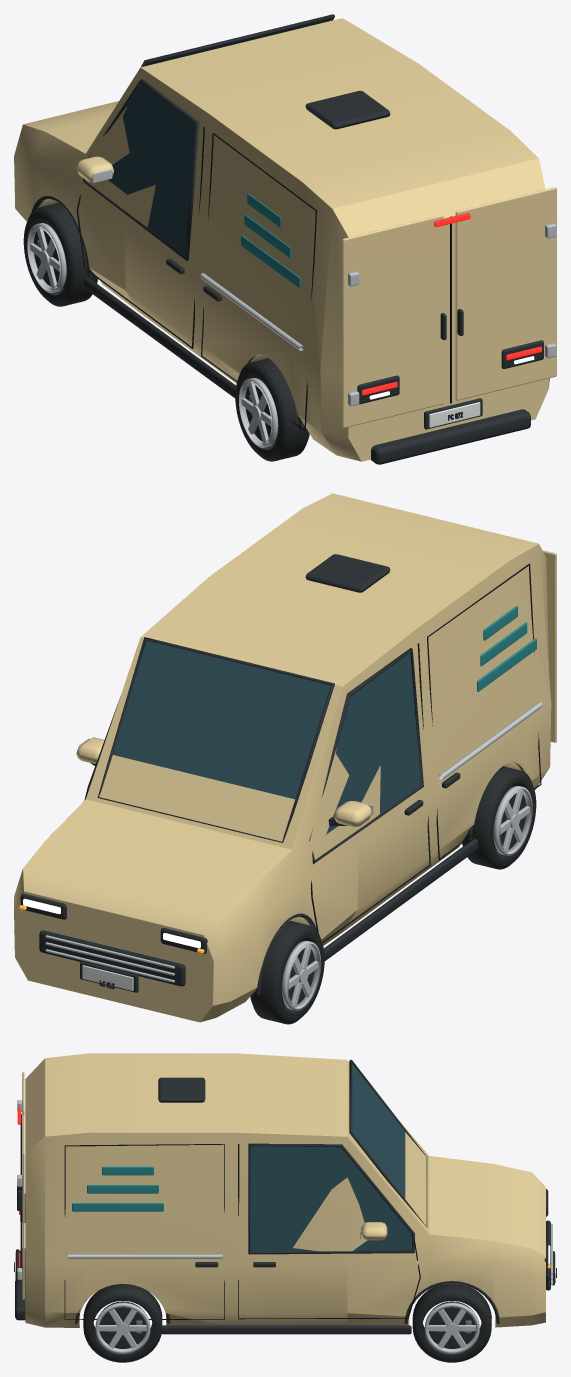
Rendered from vehicle_pelican_delivery_van.glb.
The picture shows the model from 3 angles, top to bottom: view 1: azimuth 30°, elevation 25°; view 2: azimuth 150°, elevation 25°; view 3: azimuth 270°, elevation 25°; orthographic projection. The views are drawn at different scales.
Parts seen in each view (by area): view 1: Pelican Delivery Van | continuous sculpted body, Pelican Delivery Van | rear cargo door panel, Pelican Delivery Van | rear cargo door panel.001, Pelican Delivery Van | front cab side glass, Pelican Delivery Van | rear bumper diffuser, Pelican Delivery Van | left rear | chamfered tire, Pelican Delivery Van | left front | chamfered tire, Pelican Delivery Van | sill protector, Pelican Delivery Van | cargo roof vent, Pelican Delivery Van | front cab side glass | gasket, Pelican Delivery Van | left front | alloy rim lip, Pelican Delivery Van | left rear | alloy rim lip (+12 smaller); view 2: Pelican Delivery Van | continuous sculpted body, Pelican Delivery Van | front windshield, Pelican Delivery Van | front cab side glass, Pelican Delivery Van | left front | chamfered tire, Pelican Delivery Van | left rear | chamfered tire, Pelican Delivery Van | front bumper inset, Pelican Delivery Van | sill protector, Pelican Delivery Van | front windshield | weather seal, Pelican Delivery Van | cargo roof vent, Pelican Delivery Van | front cab side glass | gasket, Pelican Delivery Van | rear cargo door panel, Pelican Delivery Van | left rear | alloy rim lip (+8 smaller); view 3: Pelican Delivery Van | continuous sculpted body, Pelican Delivery Van | front cab side glass.001, Pelican Delivery Van | front windshield, Pelican Delivery Van | right front | chamfered tire, Pelican Delivery Van | right rear | chamfered tire, Pelican Delivery Van | sill protector.001, Pelican Delivery Van | front cab side glass | gasket.001, Pelican Delivery Van | cargo roof vent, Pelican Delivery Van | front windshield | weather seal, Pelican Delivery Van | right rear | recessed wheel barrel, Pelican Delivery Van | right front | recessed wheel barrel, Pelican Delivery Van | delivery livery stripe.003 (+13 smaller).
Part boxes in pixels (x1,y1,x2,y2): Pelican Delivery Van | continuous sculpted body: (14, 18, 549, 461); Pelican Delivery Van | rear cargo door panel: (342, 215, 443, 428); Pelican Delivery Van | rear cargo door panel.001: (455, 187, 556, 400); Pelican Delivery Van | front cab side glass: (108, 84, 195, 255); Pelican Delivery Van | rear bumper diffuser: (370, 409, 530, 464); Pelican Delivery Van | left rear | chamfered tire: (235, 358, 309, 461); Pelican Delivery Van | left front | chamfered tire: (23, 203, 97, 306); Pelican Delivery Van | sill protector: (84, 277, 245, 398); Pelican Delivery Van | cargo roof vent: (305, 90, 390, 129); Pelican Delivery Van | front cab side glass | gasket: (83, 79, 199, 260); Pelican Delivery Van | left front | alloy rim lip: (27, 223, 66, 292); Pelican Delivery Van | left rear | alloy rim lip: (239, 378, 278, 447); Pelican Delivery Van | continuous sculpted body: (14, 493, 551, 1022); Pelican Delivery Van | front windshield: (113, 640, 330, 799); Pelican Delivery Van | front cab side glass: (326, 653, 420, 834); Pelican Delivery Van | left front | chamfered tire: (250, 920, 324, 1024); Pelican Delivery Van | left rear | chamfered tire: (462, 766, 536, 869); Pelican Delivery Van | front bumper inset: (39, 930, 185, 986); Pelican Delivery Van | sill protector: (324, 838, 478, 960); Pelican Delivery Van | front windshield | weather seal: (97, 637, 334, 842); Pelican Delivery Van | cargo roof vent: (305, 554, 390, 592); Pelican Delivery Van | front cab side glass | gasket: (309, 648, 423, 864); Pelican Delivery Van | rear cargo door panel: (542, 550, 556, 742); Pelican Delivery Van | left rear | alloy rim lip: (493, 786, 532, 855); Pelican Delivery Van | continuous sculpted body: (25, 1053, 545, 1327); Pelican Delivery Van | front cab side glass.001: (250, 1146, 411, 1251); Pelican Delivery Van | front windshield: (352, 1064, 405, 1198); Pelican Delivery Van | right front | chamfered tire: (412, 1283, 491, 1362); Pelican Delivery Van | right rear | chamfered tire: (83, 1284, 162, 1362); Pelican Delivery Van | sill protector.001: (161, 1325, 411, 1334); Pelican Delivery Van | front cab side glass | gasket.001: (248, 1143, 414, 1254); Pelican Delivery Van | cargo roof vent: (158, 1077, 205, 1102); Pelican Delivery Van | front windshield | weather seal: (349, 1059, 427, 1227); Pelican Delivery Van | right rear | recessed wheel barrel: (99, 1301, 146, 1348); Pelican Delivery Van | right front | recessed wheel barrel: (429, 1301, 475, 1348); Pelican Delivery Van | delivery livery stripe.003: (72, 1203, 163, 1211).
Size of the model in its own units: 2.56 by 2.53 by 5.44.
